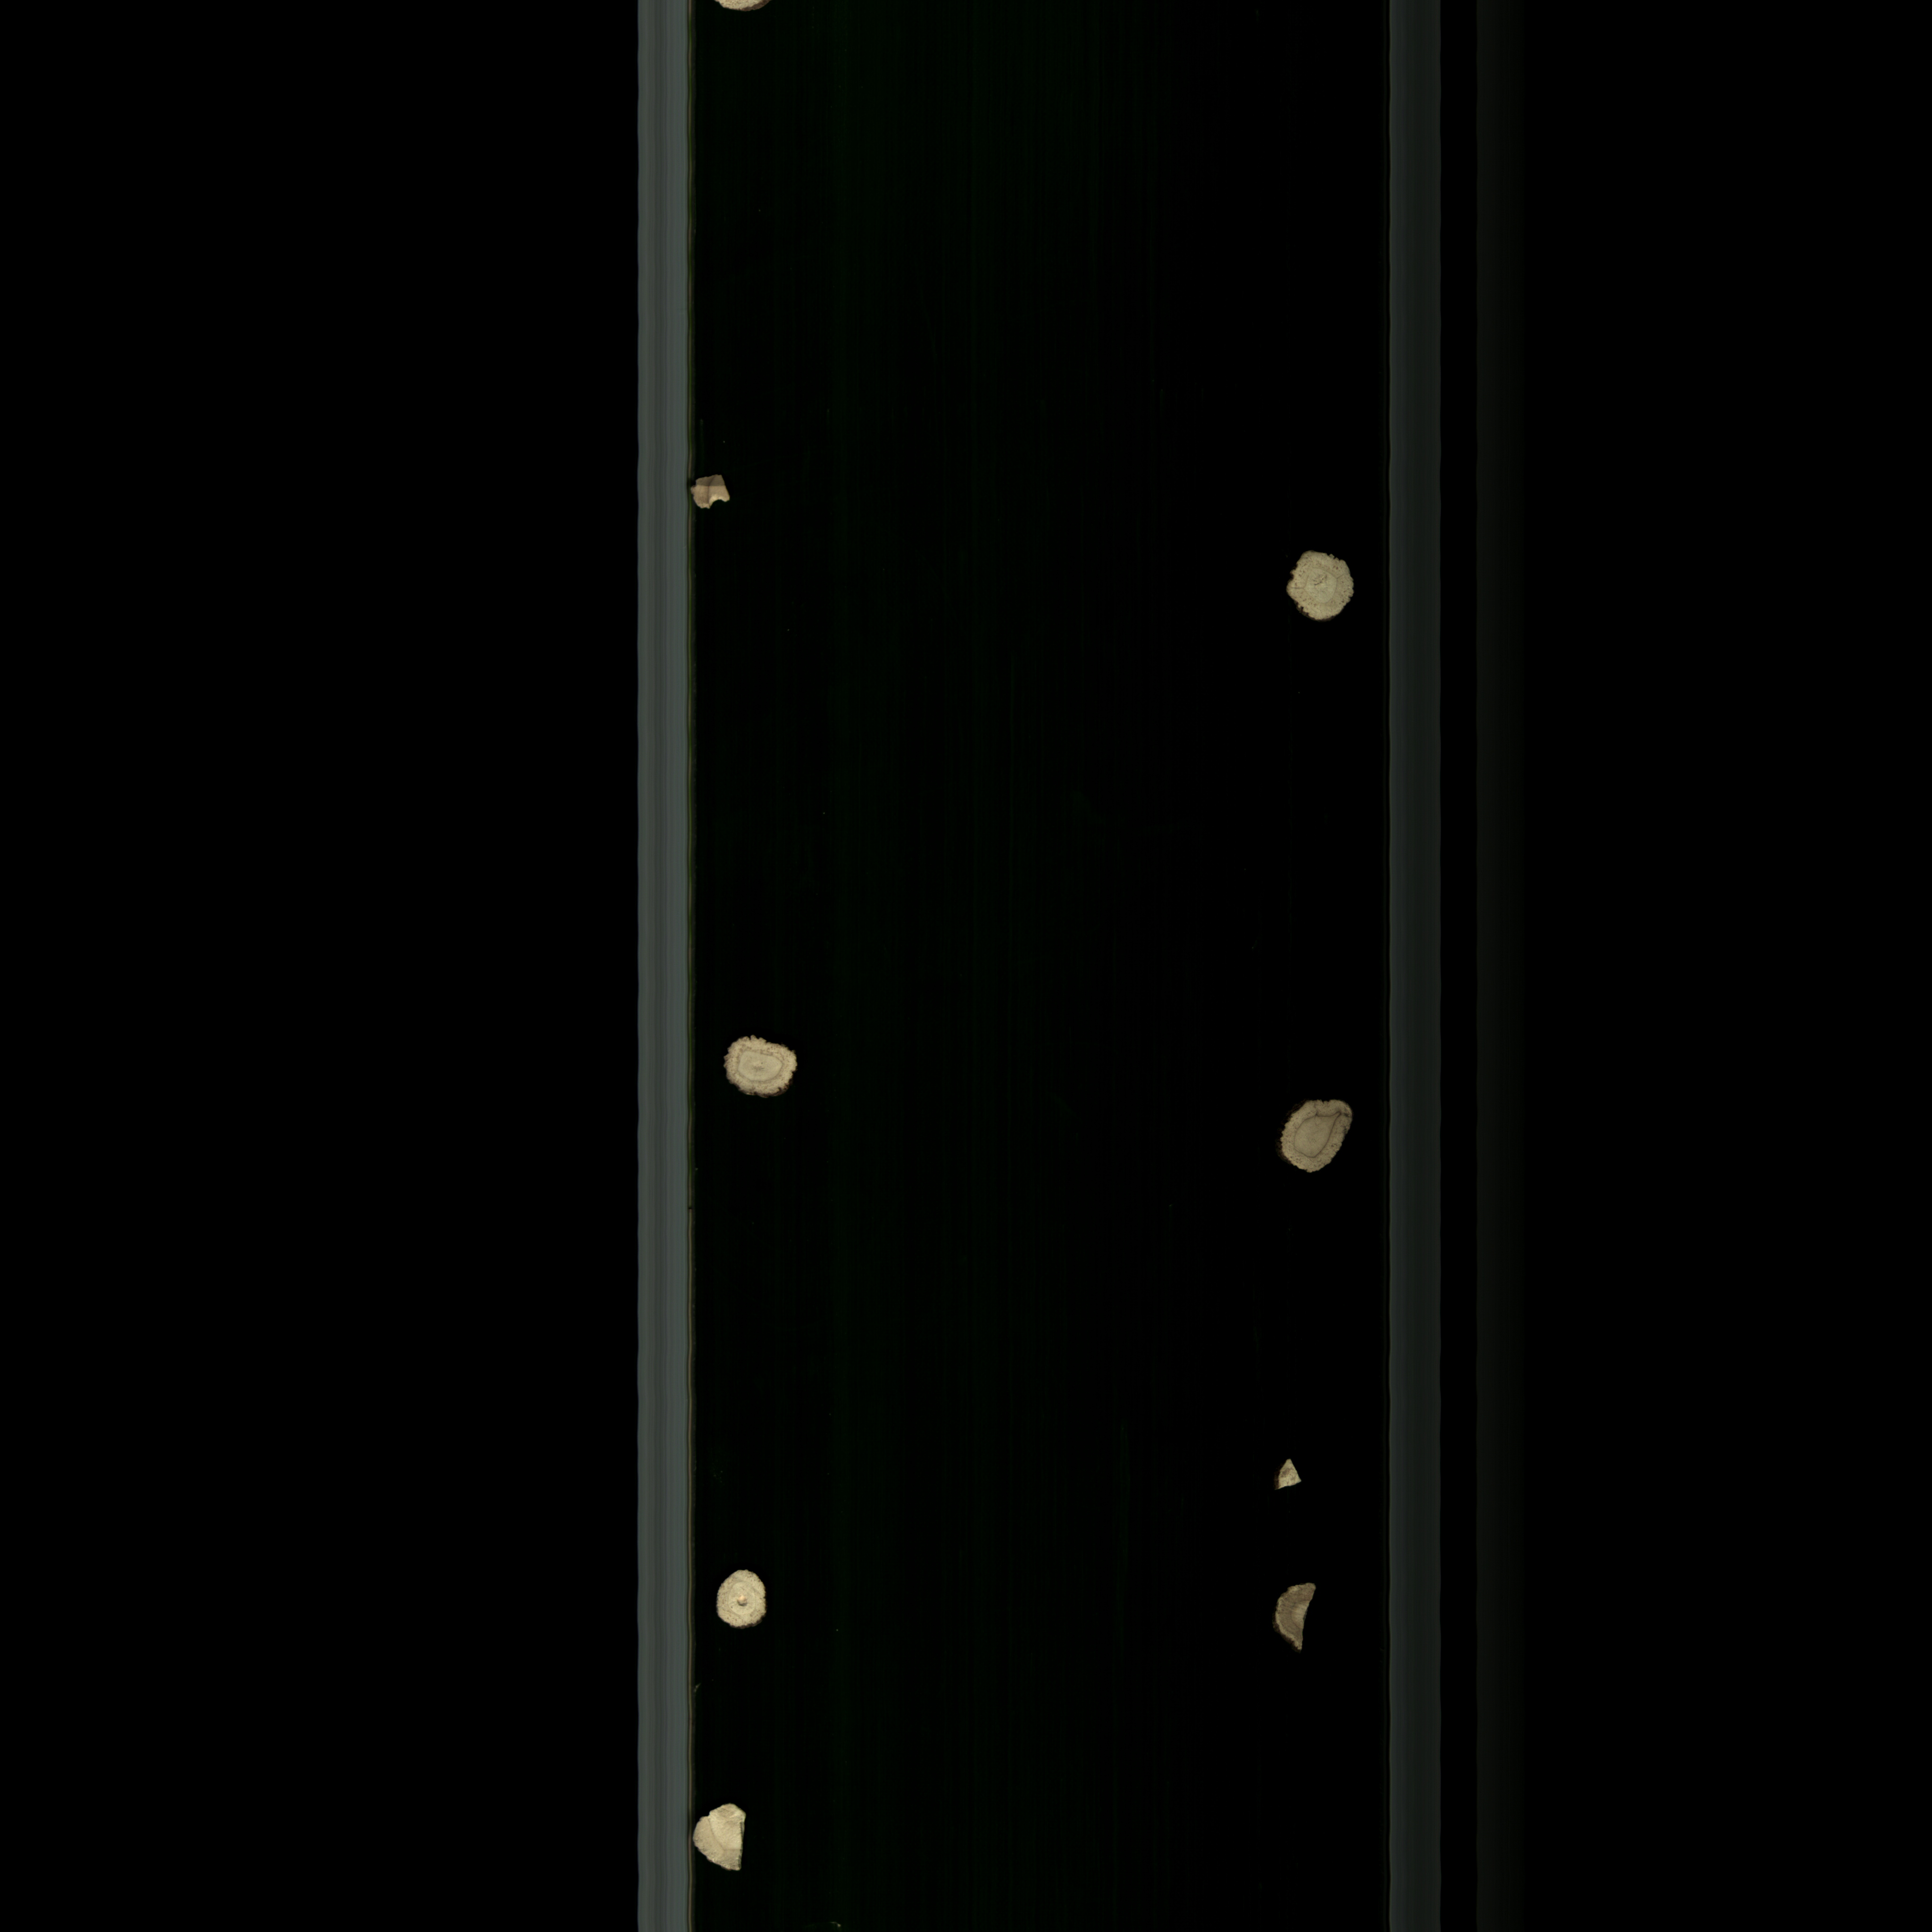debris: (692, 1798, 757, 1877)
distortion: (1267, 1088, 1371, 1185), (1276, 543, 1362, 630)
dreg: (1274, 1447, 1306, 1497)
hole: (706, 1553, 780, 1637)
moldy: (1265, 1571, 1334, 1658), (695, 467, 741, 524)
